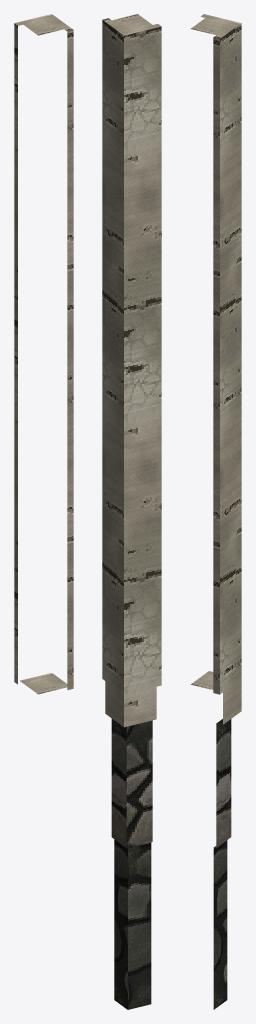
File: house_wall_ext_corner.glb
The picture shows the model from 3 angles, left to right: view 1: azimuth 30°, elevation 25°; view 2: azimuth 210°, elevation 25°; view 3: azimuth 330°, elevation 25°; orthographic projection.
Visible parts, largest first — view 1: house_wall_ext_corner; view 2: house_wall_ext_corner; view 3: house_wall_ext_corner.
Boxes of the visible parts, left/top/right/bottom form: house_wall_ext_corner: left=14, top=14, right=73, bottom=694; house_wall_ext_corner: left=102, top=14, right=161, bottom=1009; house_wall_ext_corner: left=191, top=14, right=241, bottom=1009.
Size of the model in its own units: 0.145 by 3.6 by 0.145.
2 materials, 2 textured.
